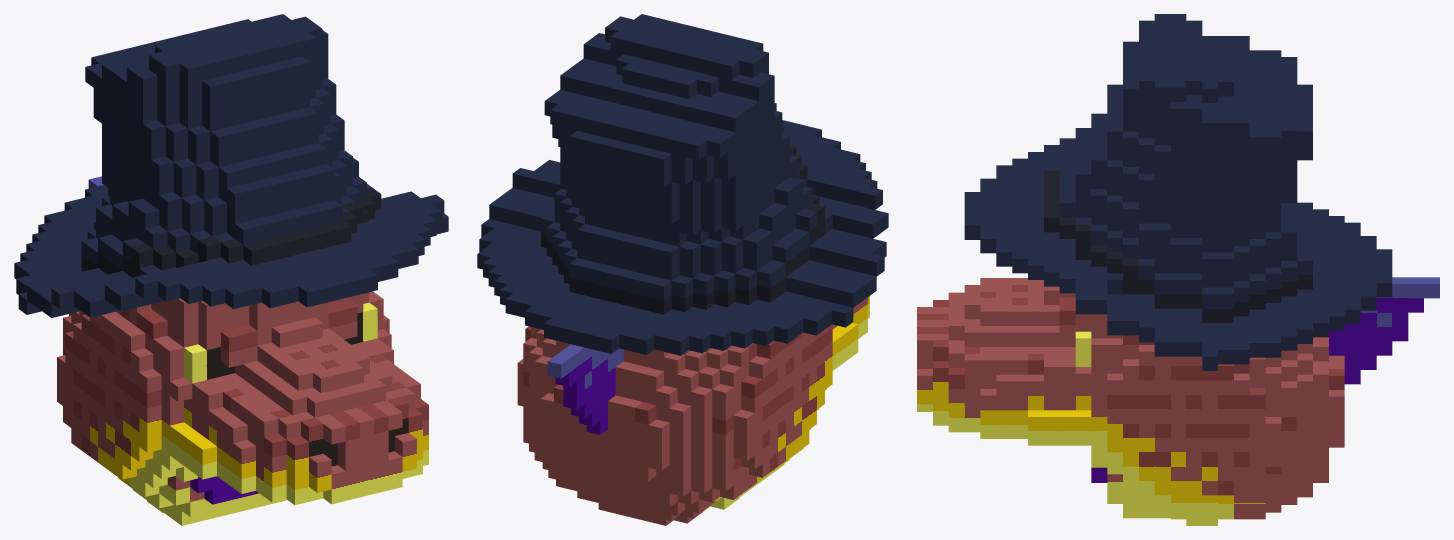
File: top hat_lazer light.gltf
3 renders of one model, left to right at view 1: azimuth 30°, elevation 25°; view 2: azimuth 150°, elevation 25°; view 3: azimuth 270°, elevation 25°, orthographic. The views are drawn at different scales.
Visible parts, largest first — view 1: C54_H_TopH_RedG_RBSpec_SkyD_LazerL-Mesh; view 2: C54_H_TopH_RedG_RBSpec_SkyD_LazerL-Mesh; view 3: C54_H_TopH_RedG_RBSpec_SkyD_LazerL-Mesh.
Part boxes in pixels (bbox=[...]): C54_H_TopH_RedG_RBSpec_SkyD_LazerL-Mesh: bbox=[14, 14, 448, 525]; C54_H_TopH_RedG_RBSpec_SkyD_LazerL-Mesh: bbox=[477, 14, 888, 525]; C54_H_TopH_RedG_RBSpec_SkyD_LazerL-Mesh: bbox=[917, 14, 1439, 525].
Size of the model in its own units: 27 by 31 by 33.
Materials: 1 (1 with a texture image).
